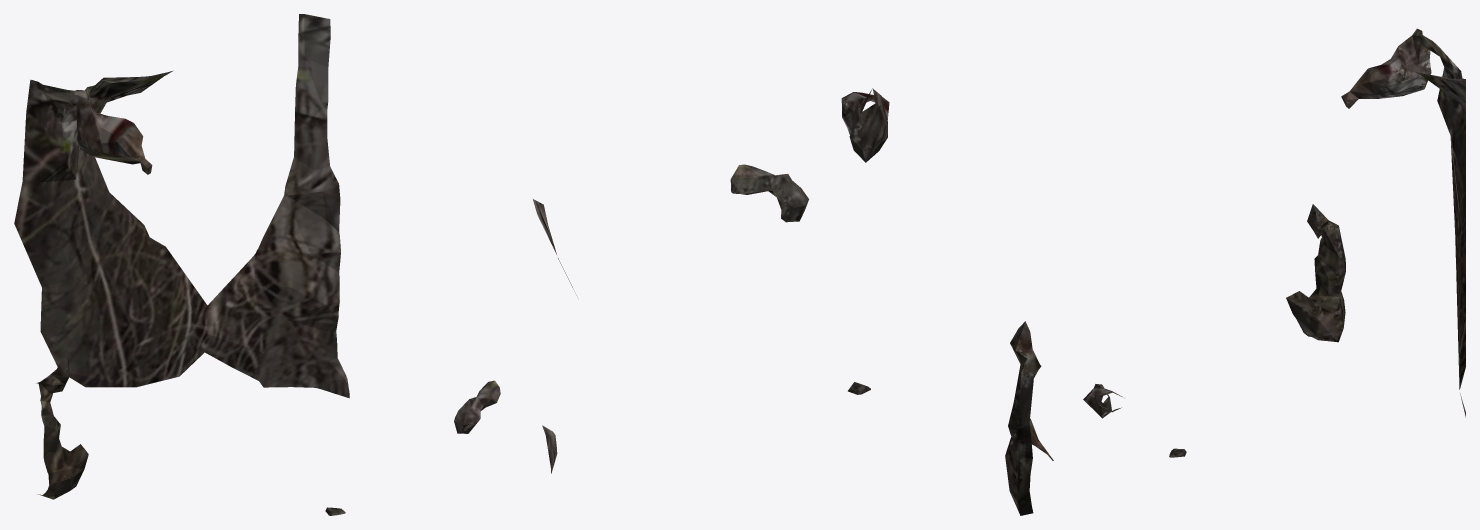
3 renders of one model, left to right at view 1: azimuth 30°, elevation 25°; view 2: azimuth 150°, elevation 25°; view 3: azimuth 270°, elevation 25°, orthographic. The views are drawn at different scales.
Bounding box in the file's own units: 0.8373 × 0.8373 × 0.8005.
2 materials, 2 textured.
